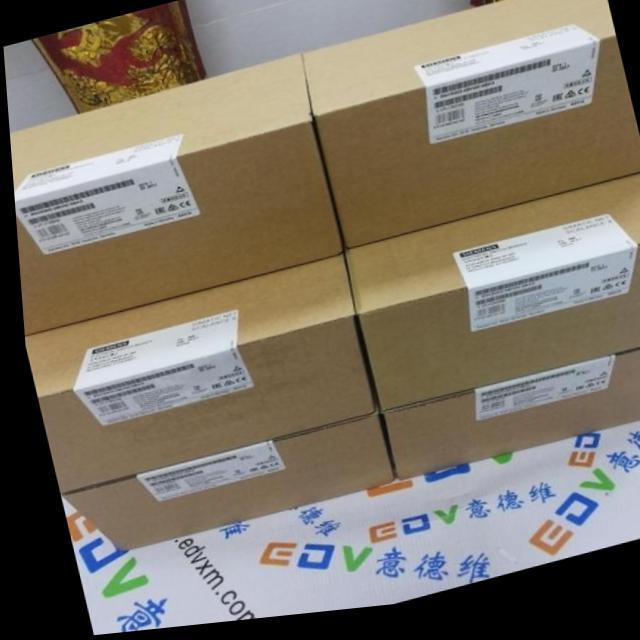box: (8, 58, 338, 335), (300, 0, 640, 254), (302, 0, 640, 255), (20, 259, 369, 493), (342, 184, 640, 418), (53, 421, 387, 552), (376, 360, 640, 488)
